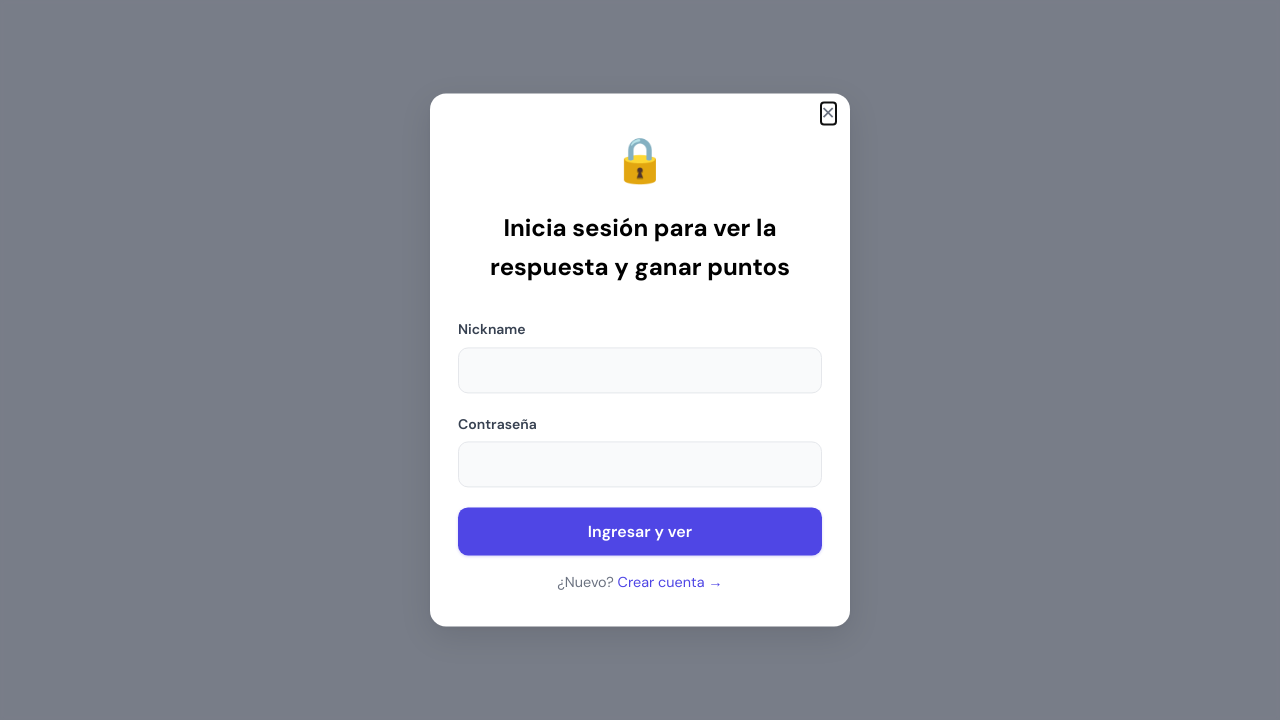
Test: AuthPromptModal › shows an error and does not authenticate on failed login
This screenshot has width=1280, height=720.
Type "x" into the field labelled "Nickname" at (640, 370), box [458,347,822,393]
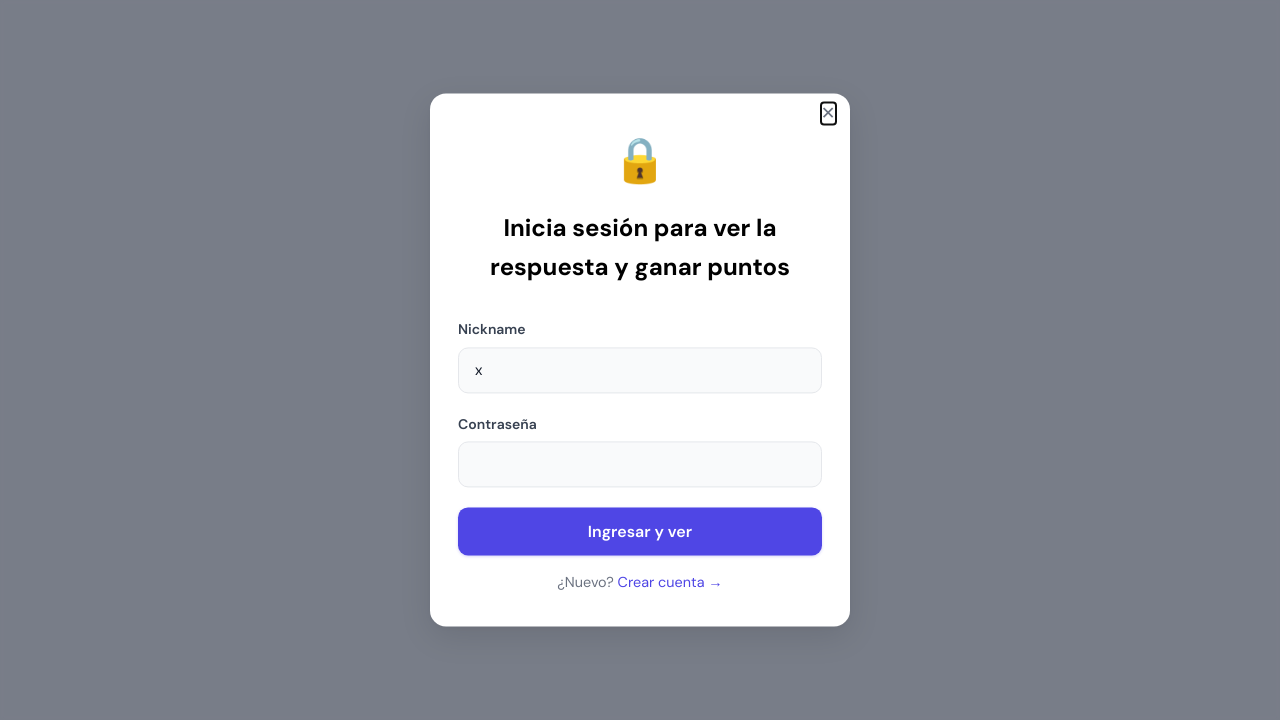
Type "y" into the password field labelled "Contraseña" at (640, 464), box [458,441,822,487]
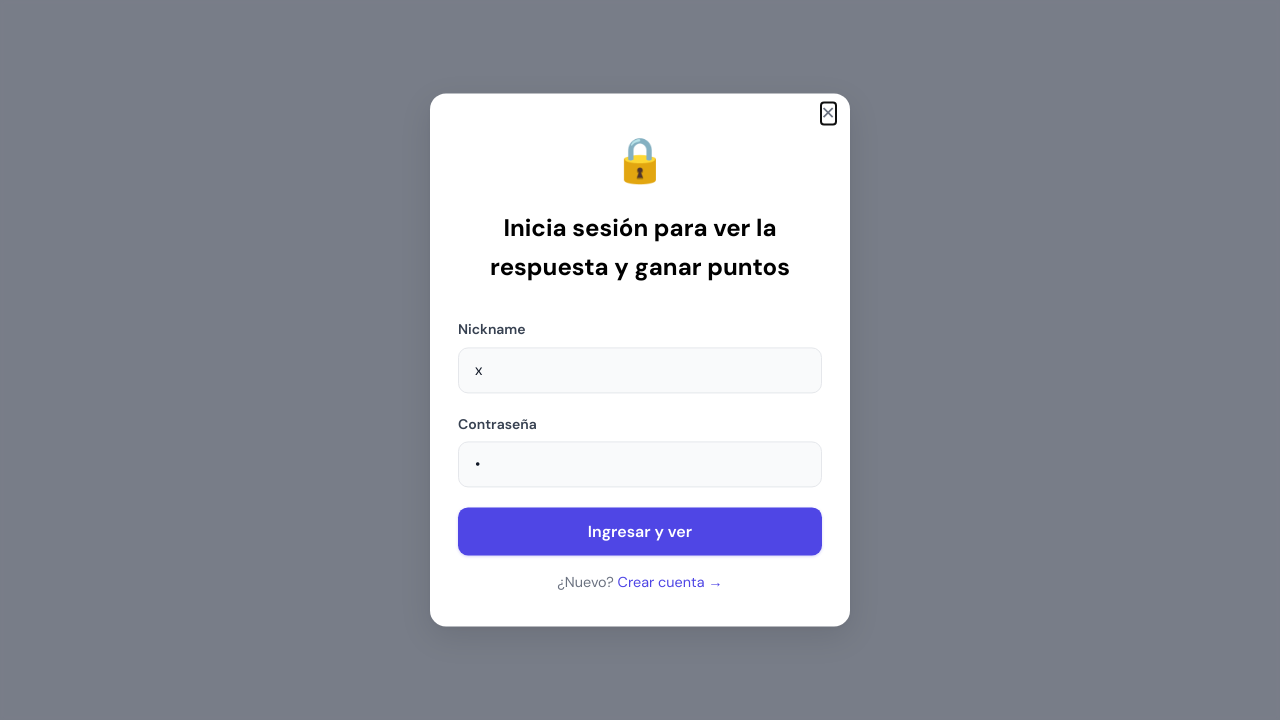
Click the button "Ingresar y ver" at (640, 532), box [458,507,822,556]
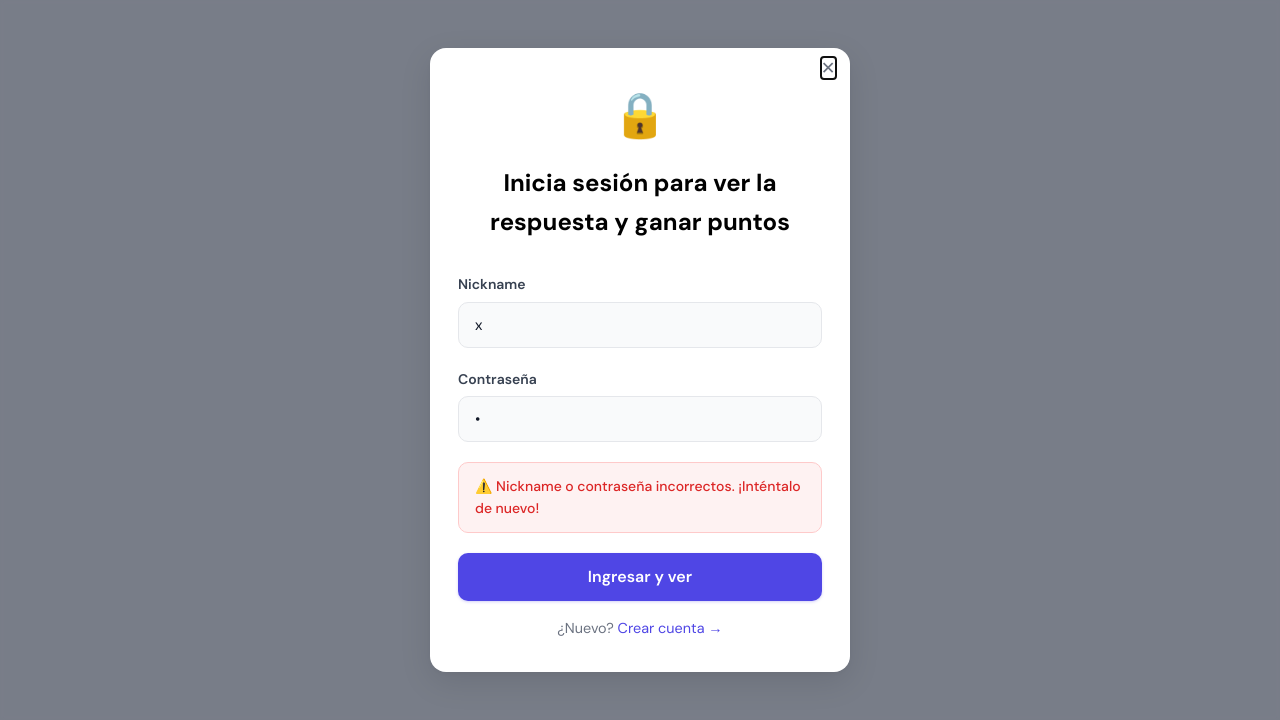
Now the text "⚠️ Nickname o contraseña incorrectos. ¡Inténtalo de nuevo!" is shown, box [458,462,822,533]
